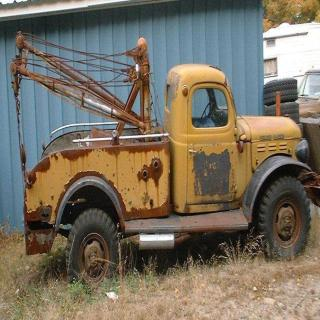Towing_truck: (9, 29, 318, 287)
